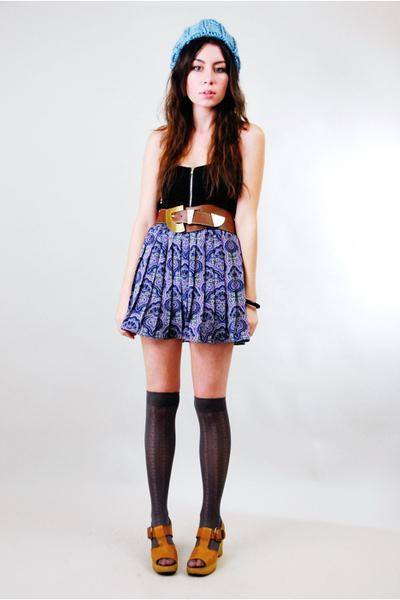shirt: (156, 166, 242, 227)
shoe: (147, 524, 223, 563)
skirt: (121, 205, 251, 347)
